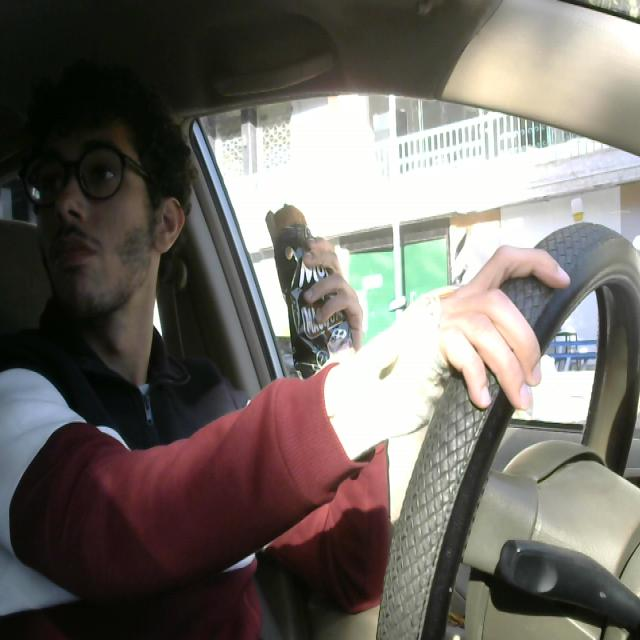eating: (250, 197, 362, 427)
